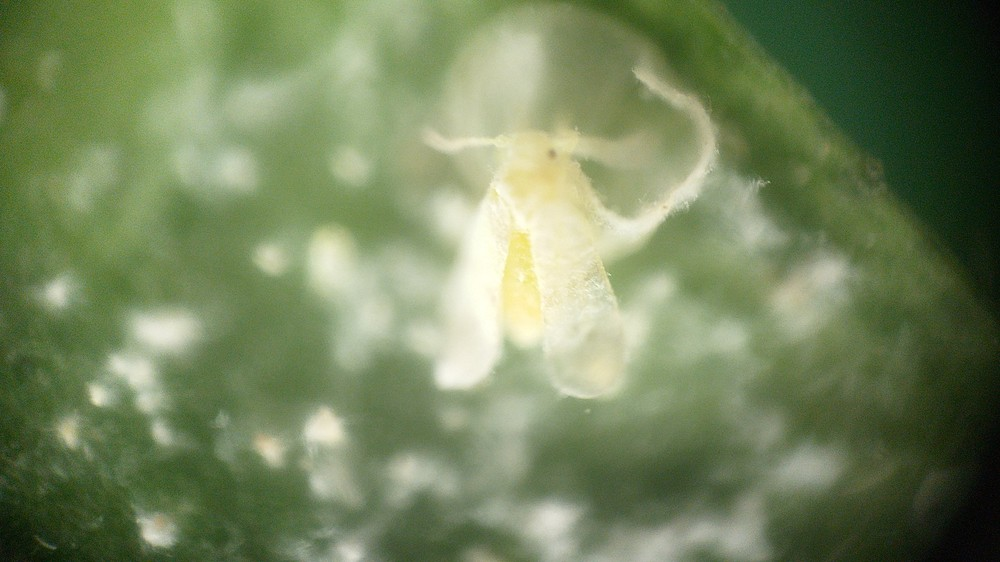Mosca Blanca: (393, 110, 670, 405)
